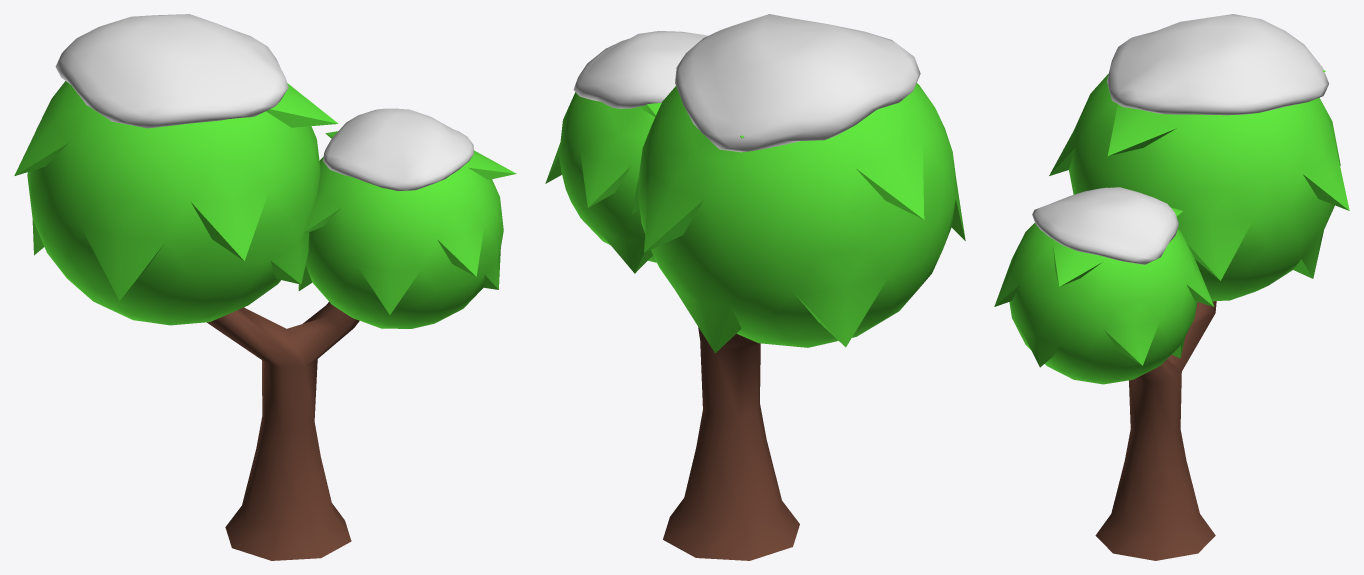
File: tree1_snow.fbx
The picture shows the model from 3 angles, left to right: view 1: azimuth 30°, elevation 25°; view 2: azimuth 150°, elevation 25°; view 3: azimuth 270°, elevation 25°; orthographic projection. The views are drawn at different scales.
Visible parts, largest first — view 1: Icosphere, Icosphere.003, Icosphere.002; view 2: Icosphere, Icosphere.003, Icosphere.002; view 3: Icosphere, Icosphere.003, Icosphere.002.
Boxes of the visible parts, left/top/right/bottom form: Icosphere: left=14, top=81, right=516, bottom=328; Icosphere.003: left=55, top=14, right=473, bottom=191; Icosphere.002: left=207, top=302, right=359, bottom=560; Icosphere: left=545, top=83, right=965, bottom=353; Icosphere.003: left=573, top=14, right=920, bottom=152; Icosphere.002: left=663, top=327, right=799, bottom=560; Icosphere: left=994, top=70, right=1349, bottom=384; Icosphere.003: left=1032, top=14, right=1328, bottom=264; Icosphere.002: left=1095, top=301, right=1216, bottom=560.
Size of the model in its own units: 434 by 516 by 359.
